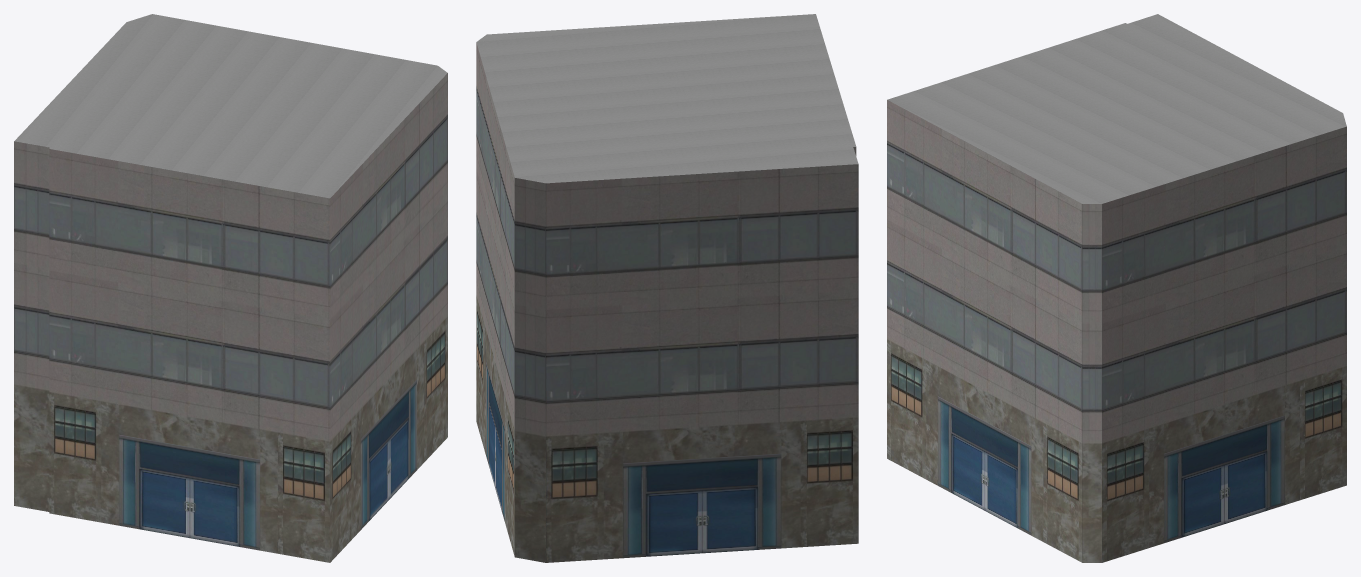
3 renders of one model, left to right at view 1: azimuth 30°, elevation 25°; view 2: azimuth 150°, elevation 25°; view 3: azimuth 270°, elevation 25°, orthographic. The views are drawn at different scales.
Visible parts, largest first — view 1: BuildingMaster_1980193020774463479400000000_0, BuildingMaster_1980193020774463479400000000_1; view 2: BuildingMaster_1980193020774463479400000000_0, BuildingMaster_1980193020774463479400000000_1; view 3: BuildingMaster_1980193020774463479400000000_0, BuildingMaster_1980193020774463479400000000_1.
Boxes of the visible parts, box(x1,y1,x2,y2) form: BuildingMaster_1980193020774463479400000000_0: box(14, 73, 447, 562); BuildingMaster_1980193020774463479400000000_1: box(14, 14, 447, 198); BuildingMaster_1980193020774463479400000000_0: box(476, 43, 858, 562); BuildingMaster_1980193020774463479400000000_1: box(476, 14, 858, 183); BuildingMaster_1980193020774463479400000000_0: box(887, 100, 1346, 562); BuildingMaster_1980193020774463479400000000_1: box(887, 14, 1346, 203).
Bounding box in the file's own units: 11.92 × 10.5 × 12.19.
Materials: 2 (2 with a texture image).
